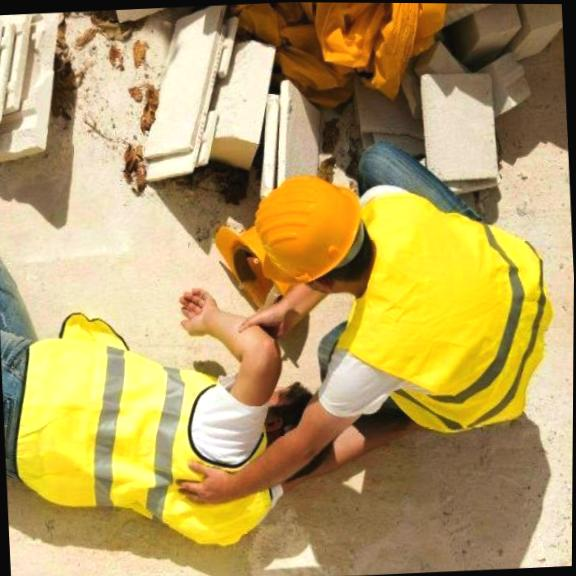safety_vest: (362, 221, 547, 421), (13, 330, 222, 502)
